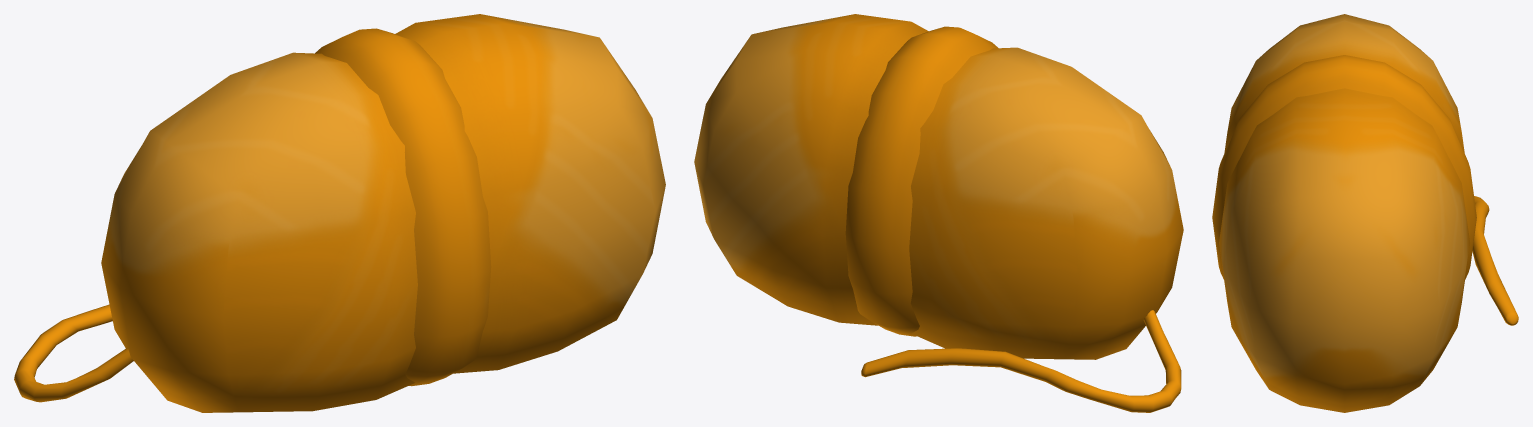
The model's file is YarnWallModel.glb.
3 views of the same model, side by side, from view 1: azimuth 30°, elevation 25°; view 2: azimuth 150°, elevation 25°; view 3: azimuth 270°, elevation 25° (orthographic). The views are drawn at different scales.
Visible parts, largest first — view 1: YarnWallModel; view 2: YarnWallModel; view 3: YarnWallModel.
Boxes of the visible parts, x1,y1,x2,y2 form: YarnWallModel: [14, 14, 665, 412]; YarnWallModel: [694, 14, 1183, 412]; YarnWallModel: [1212, 14, 1518, 412].
Size of the model in its own units: 3.89 by 2.12 by 2.09.
Materials: 1 (1 with a texture image).
